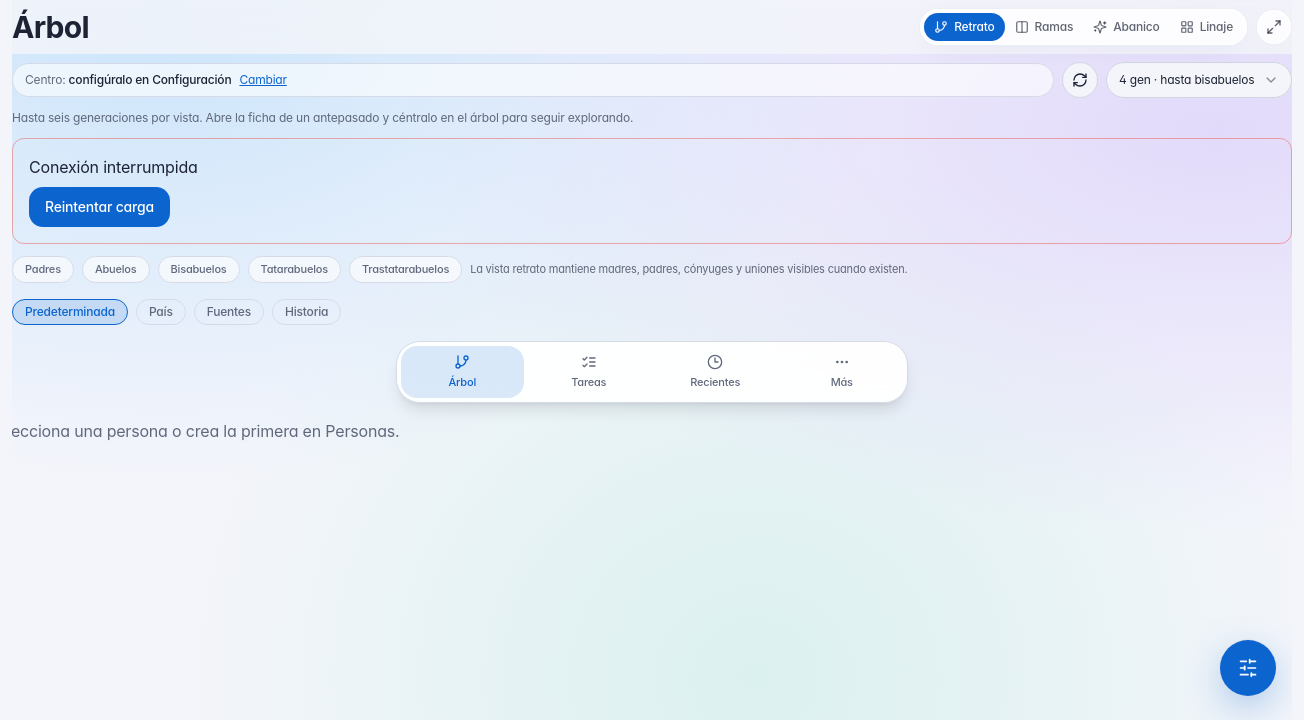
Test: recovers a failed tree load instead of spinning forever
Expected: the message shows "Conexión interrumpida", [29,157,198,177]
Click the button "Reintentar carga".
click(99, 207)  # box [29,187,170,227]
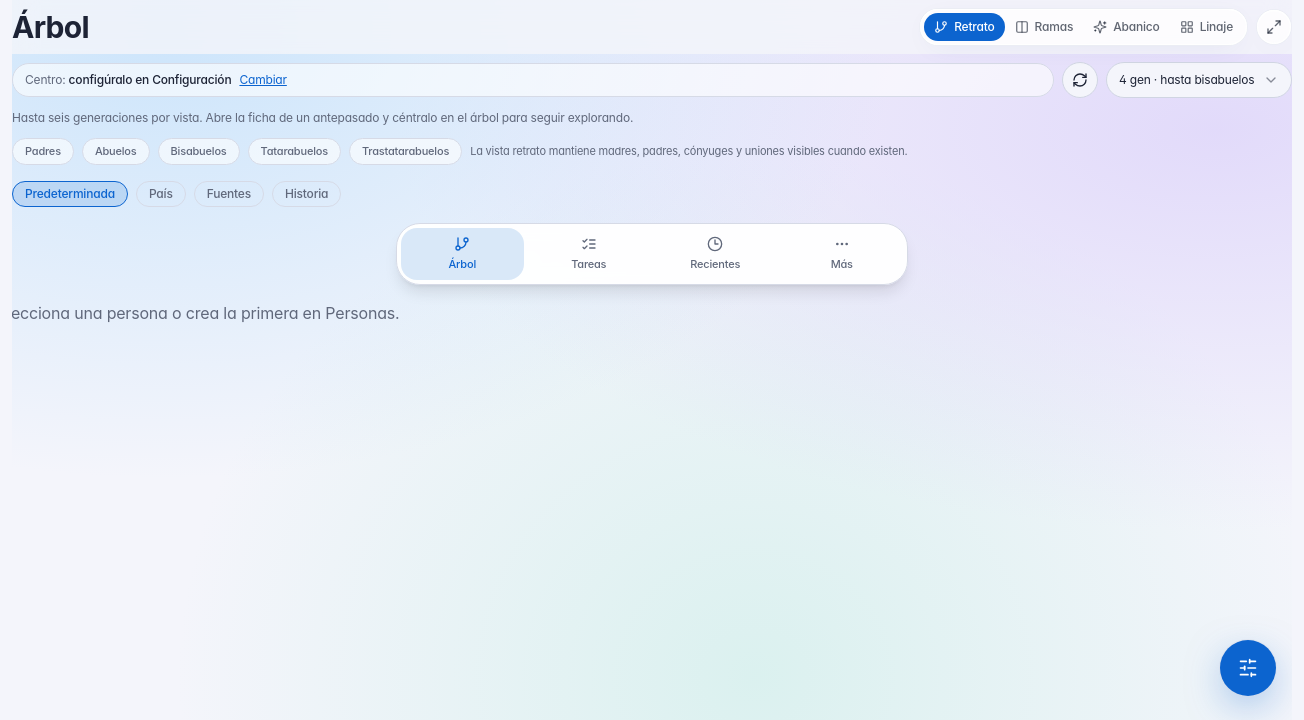
Now the message "Conexión interrumpida Reintentar carga" is gone
